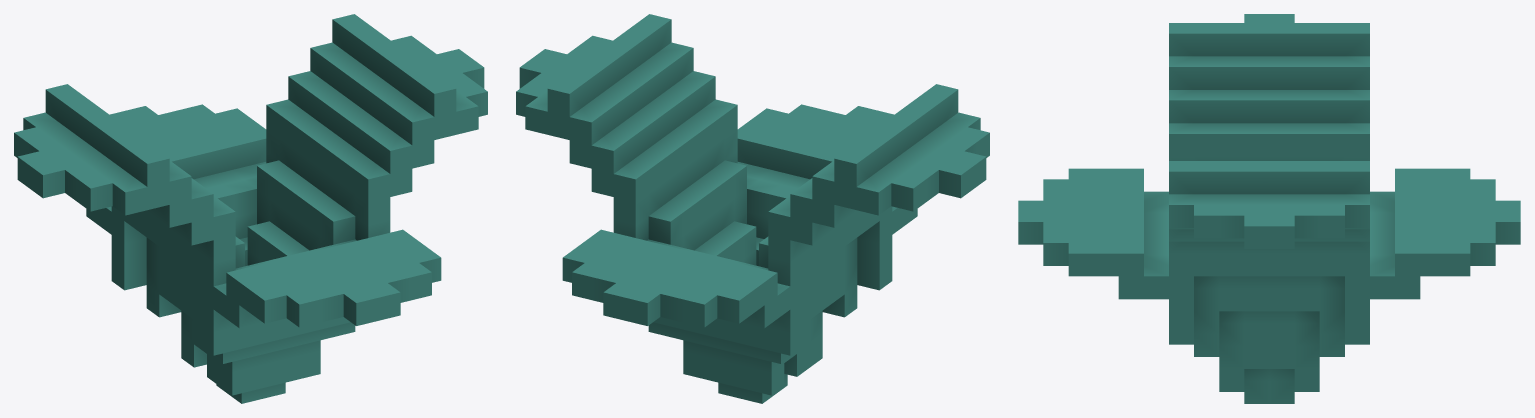
File: bush.glb
The picture shows the model from 3 angles, left to right: view 1: azimuth 30°, elevation 25°; view 2: azimuth 150°, elevation 25°; view 3: azimuth 270°, elevation 25°; orthographic projection.
Parts seen in each view (by area): view 1: voxels; view 2: voxels; view 3: voxels.
Boxes of the visible parts, x1,y1,x2,y2 form: voxels: (14, 14, 487, 403); voxels: (516, 14, 989, 403); voxels: (1018, 14, 1520, 403).
Bounding box in the file's own units: 0.4074 × 0.2648 × 0.4074.
